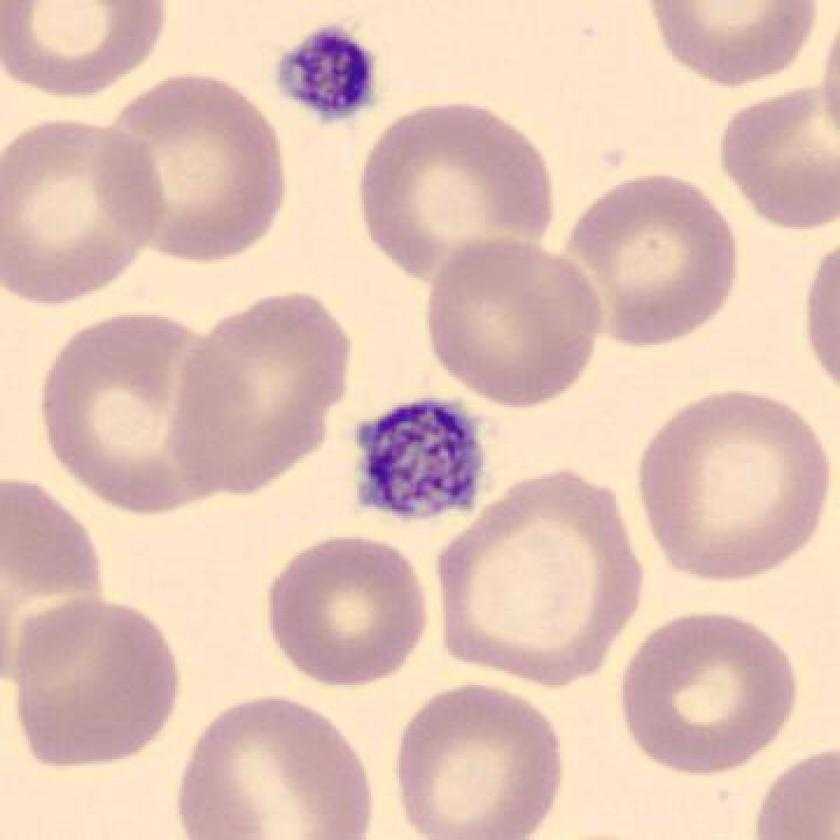platelets: (347, 392, 501, 526), (265, 15, 405, 133)
